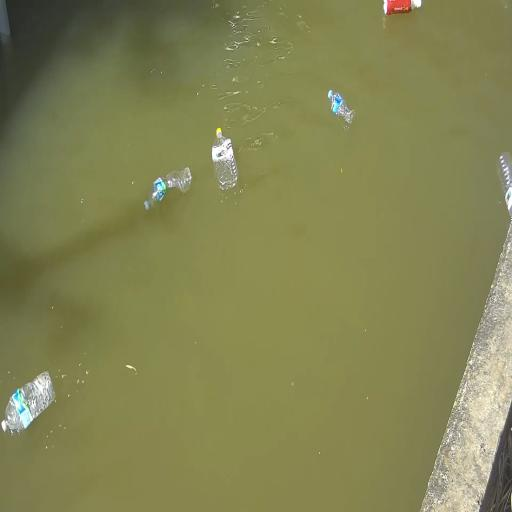plastic: (0, 370, 56, 437), (145, 167, 191, 210), (212, 128, 237, 190), (328, 90, 354, 124), (498, 153, 511, 218)
